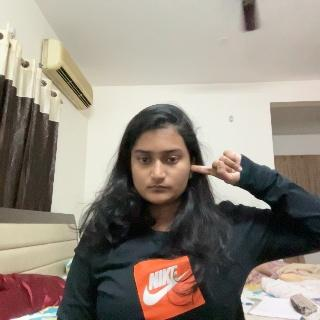Deaf: (192, 148, 259, 190)
Face: (126, 108, 190, 205)
